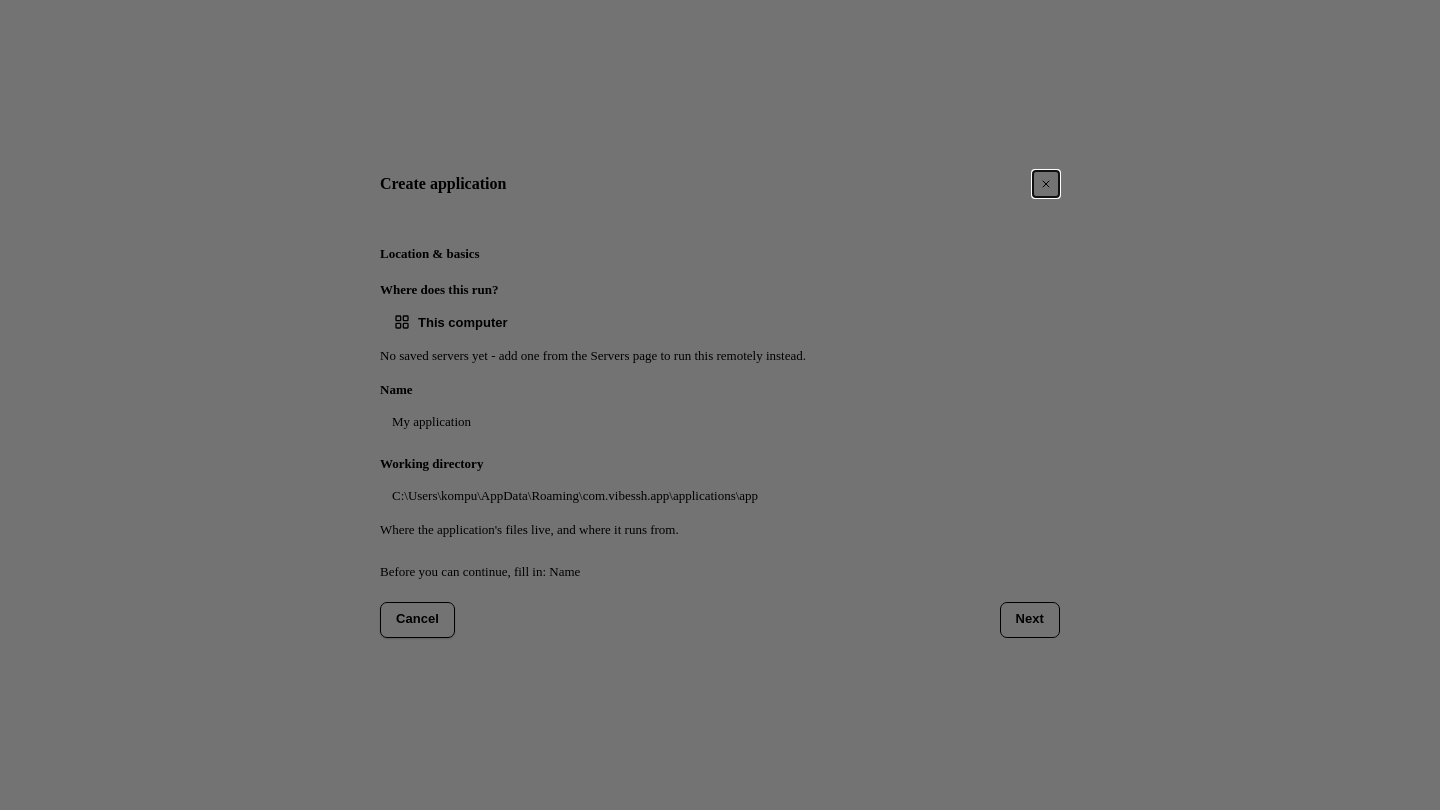
Test: CreateApplicationWizard, when it will not continue › names a required blueprint field left empty on the configuration step
expect the field showing "com.vibessh.app" is shown: met, box [380,478,1060,514]
In the field with placeholder "My application": (720,422) [380,404,1060,440], type "paper"
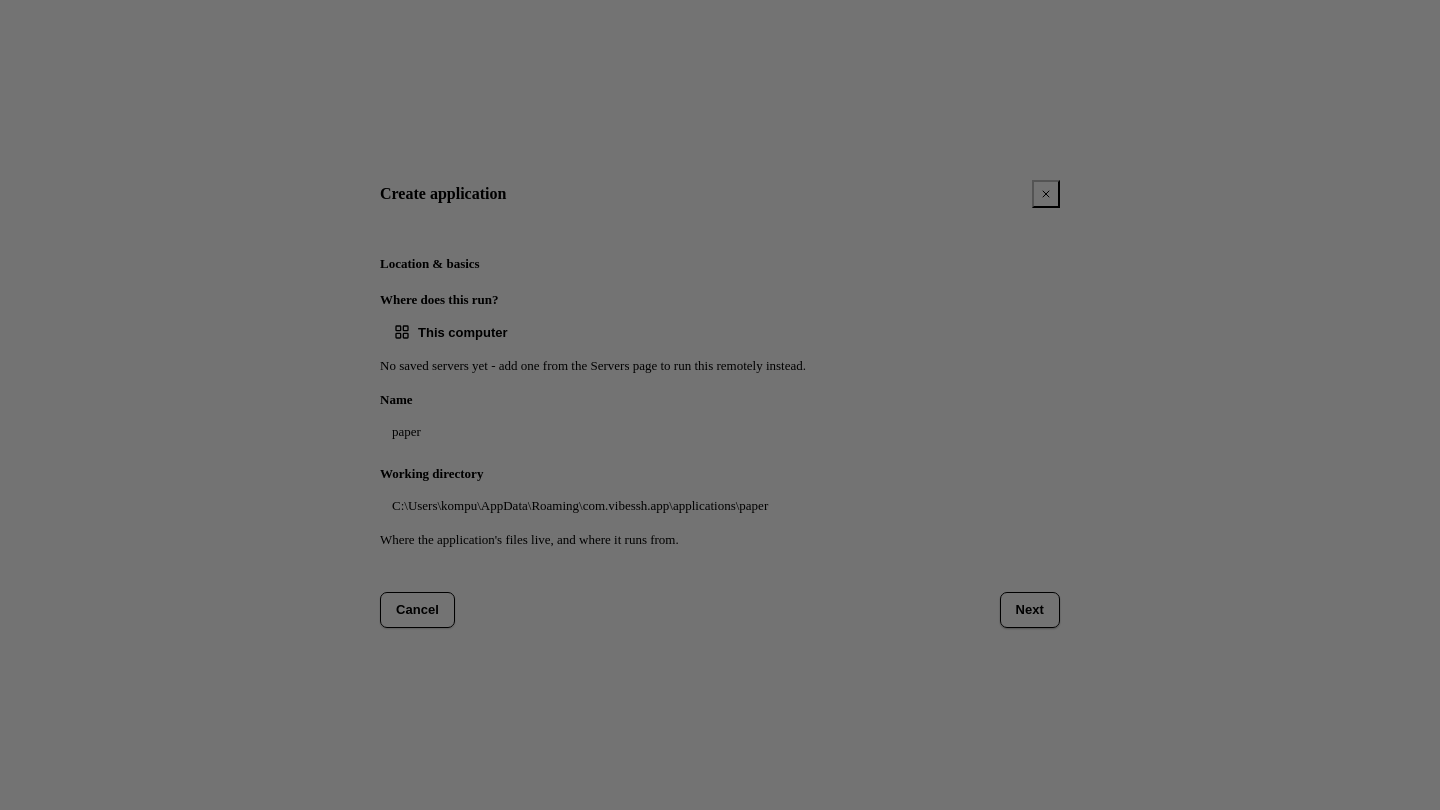
Click the button "Next": (1030,610) [1000,592,1060,628]
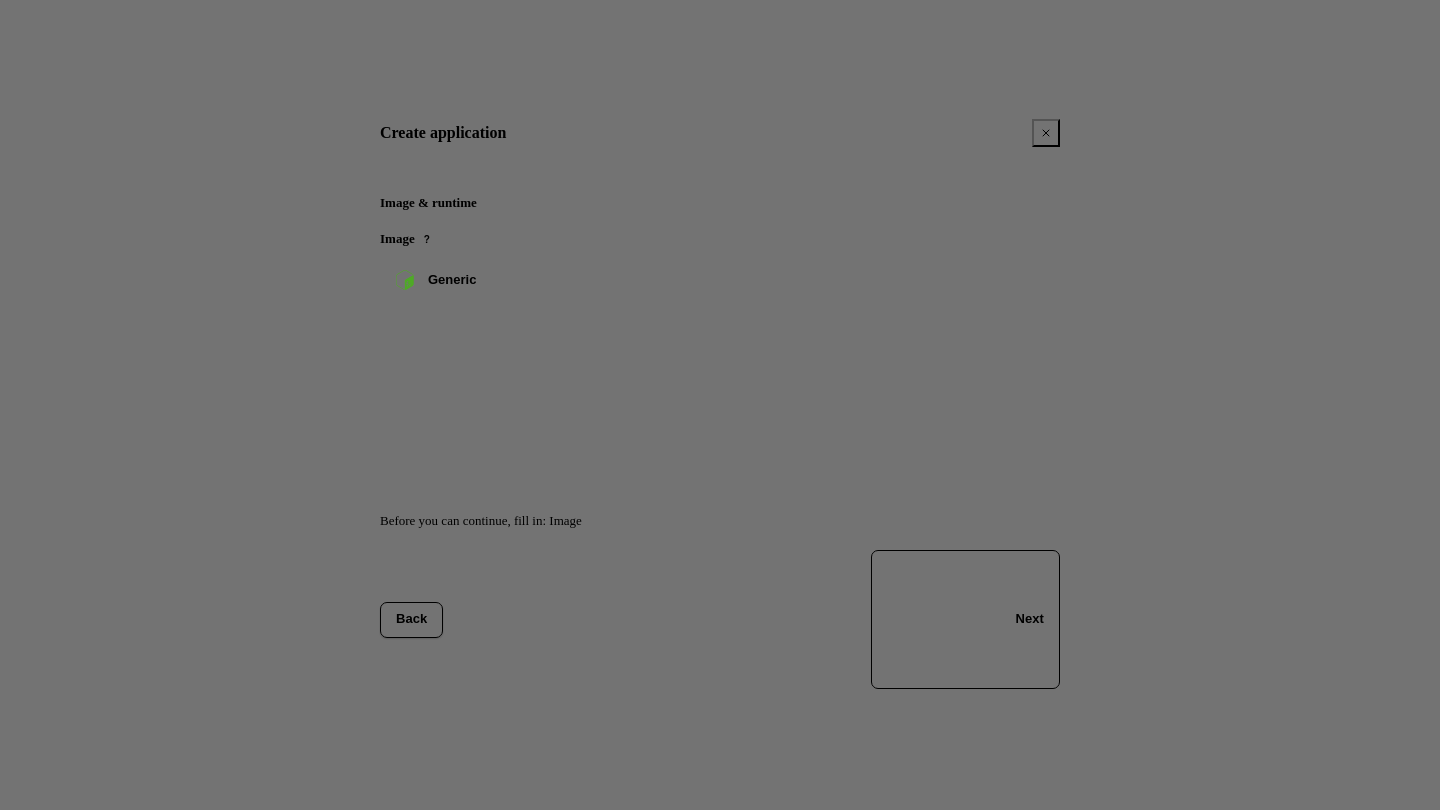
Click the button "Generic": (490,280) [380,254,600,306]
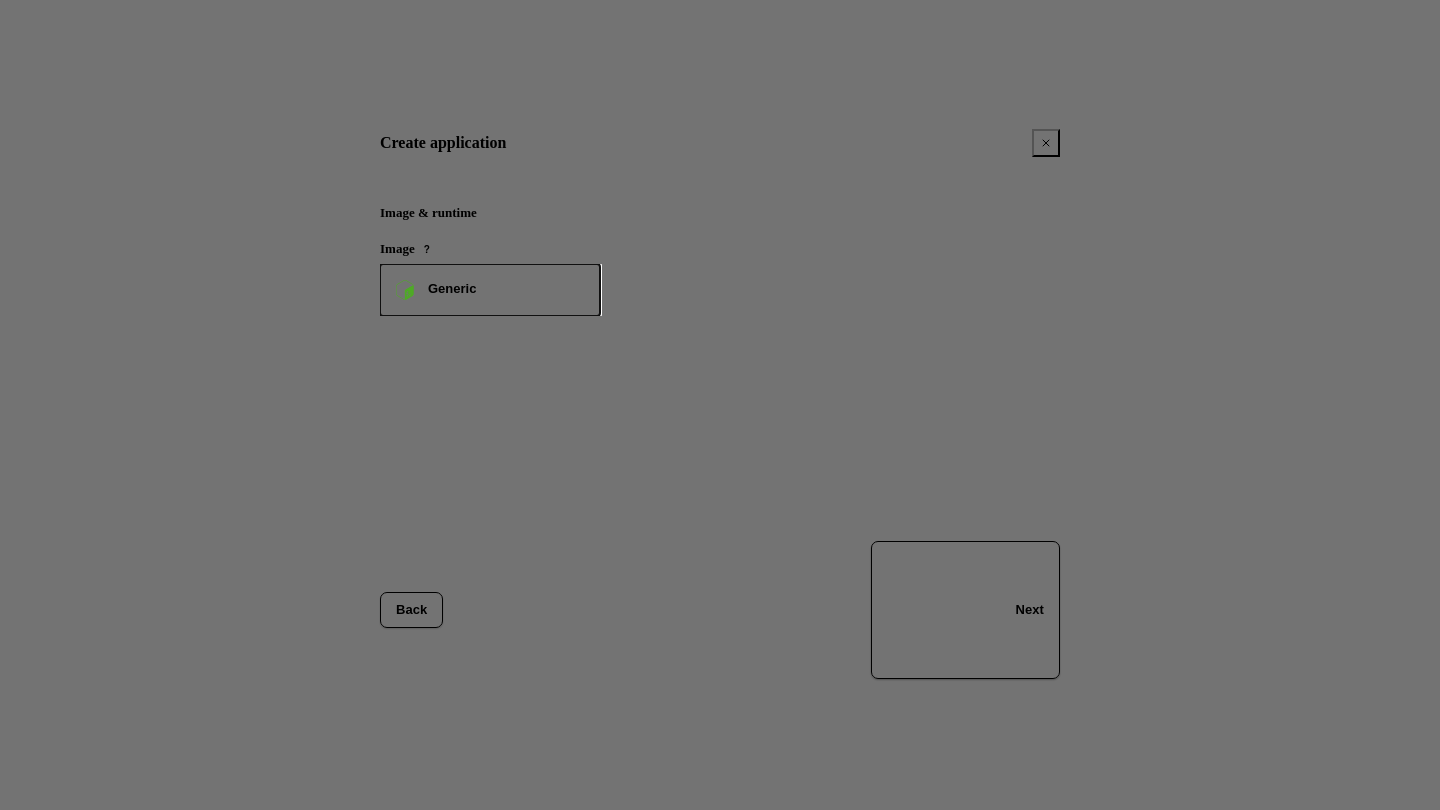
Click the button "Next": (965,610) [871,541,1060,680]
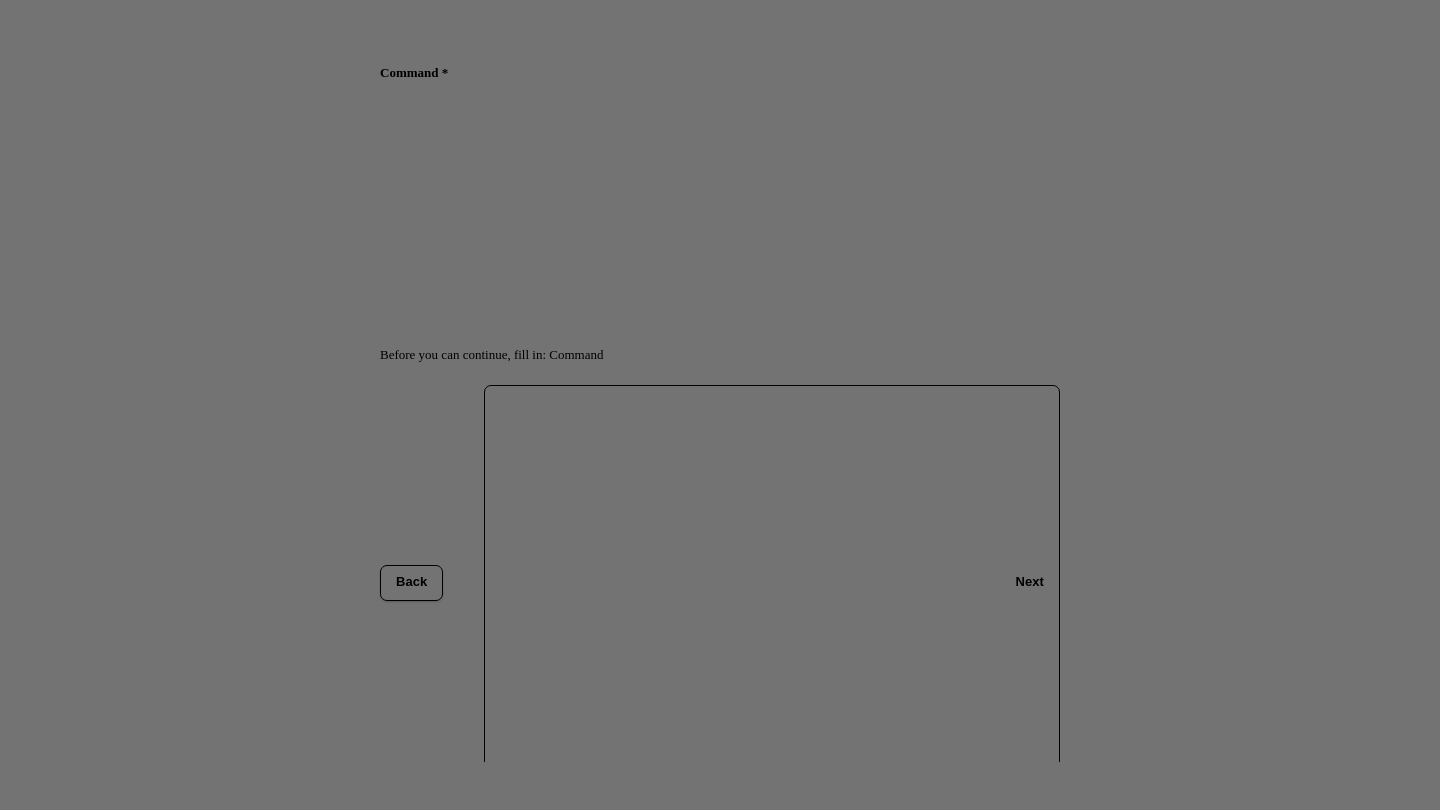
expect the text "Before you can continue, fill in: Command" is shown: met, box [380,347,604,362]
